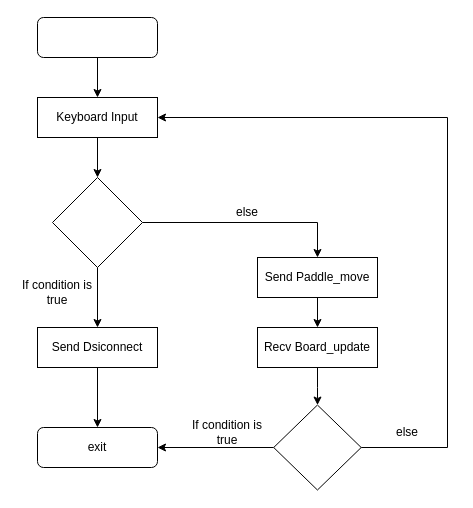
Image size: 473x508. Some labels were removed from this diagram. The centre of each missing label's shape, as x and y in pixels:
"Send Connect" goes at point (97, 37).
"Valid?" goes at point (317, 447).
"wgetch()=='q'" goes at point (97, 222).
